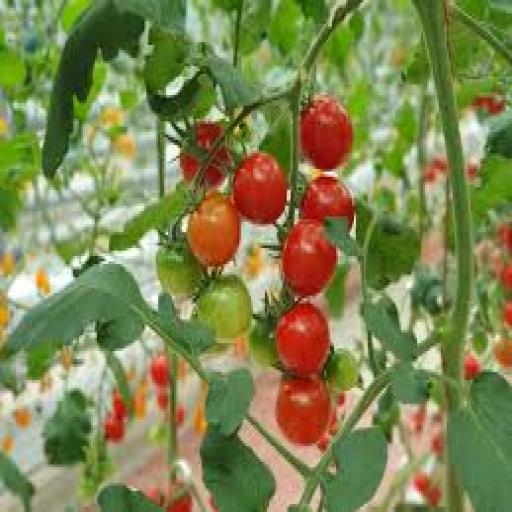tomato: (275, 304, 330, 377), (188, 191, 241, 266), (283, 220, 336, 295), (301, 96, 353, 171), (275, 378, 332, 446), (196, 275, 253, 340), (234, 154, 286, 224), (301, 175, 353, 229), (157, 243, 203, 298), (327, 349, 359, 393), (250, 322, 278, 366), (204, 146, 231, 187), (473, 96, 506, 116), (151, 354, 170, 387), (424, 156, 448, 182), (103, 415, 124, 443), (495, 338, 511, 369), (111, 391, 126, 422), (167, 494, 193, 511), (412, 407, 426, 435), (465, 354, 480, 380), (145, 486, 164, 506), (499, 222, 511, 253), (414, 473, 430, 496), (431, 431, 444, 456), (426, 486, 442, 506), (431, 156, 448, 174), (465, 161, 478, 182), (501, 264, 511, 290), (157, 388, 168, 411), (174, 404, 185, 427), (424, 167, 436, 184), (505, 301, 511, 327)
